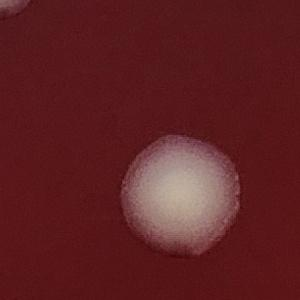colony: (114, 134, 251, 258), (0, 0, 41, 30)
